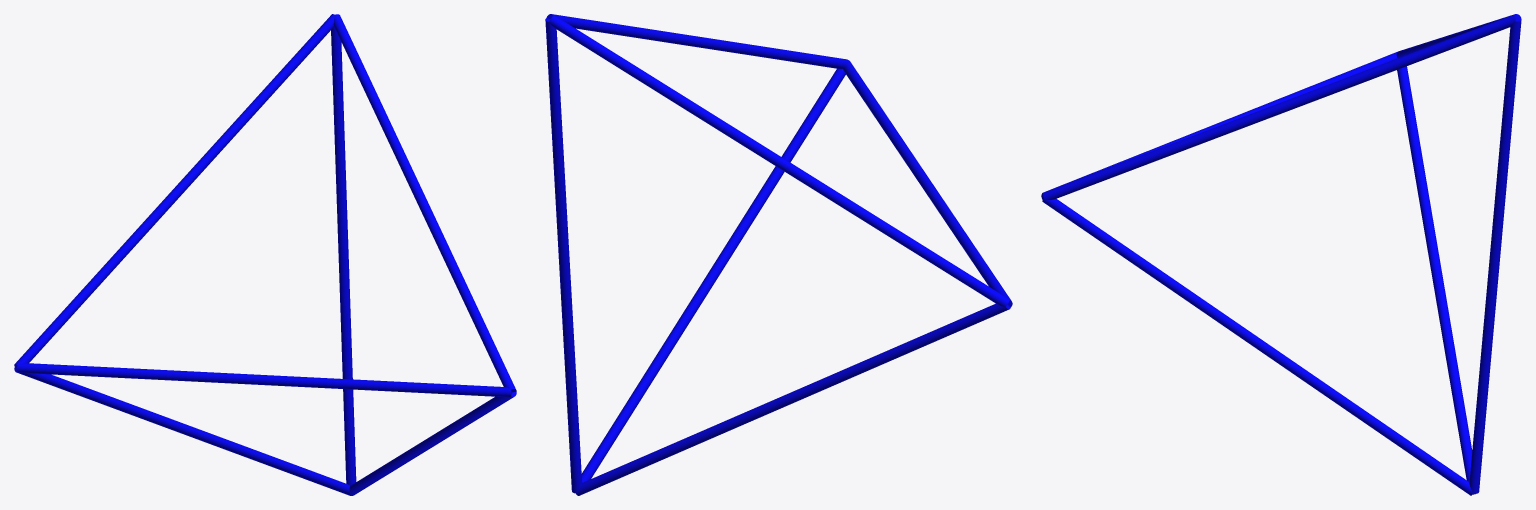
Rendered from tetrahedron.obj.
3 renders of one model, left to right at view 1: azimuth 30°, elevation 25°; view 2: azimuth 150°, elevation 25°; view 3: azimuth 270°, elevation 25°, orthographic. The views are drawn at different scales.
Parts seen in each view (by area): view 1: cyl1, cyl5, cyl0, cyl4, cyl2, cyl3; view 2: cyl5, cyl3, cyl0, cyl2, cyl4, cyl1; view 3: cyl3, cyl4, cyl0, cyl2, cyl1.
Boxes of the visible parts, x1,y1,x2,y2 form: cyl1: (17, 363, 511, 397); cyl5: (14, 14, 334, 366); cyl0: (331, 27, 356, 485); cyl4: (333, 14, 516, 392); cyl2: (14, 366, 350, 495); cyl3: (349, 391, 516, 495); cyl5: (549, 15, 1009, 306); cyl3: (581, 68, 845, 482); cyl0: (545, 18, 582, 493); cyl2: (575, 303, 1010, 495); cyl4: (546, 14, 848, 69); cyl1: (843, 60, 1012, 307); cyl3: (1042, 199, 1473, 495); cyl4: (1043, 14, 1516, 199); cyl0: (1469, 19, 1521, 493); cyl2: (1397, 66, 1475, 494); cyl1: (1041, 52, 1397, 199).
Bounding box in the file's own units: 0.8684 × 1.01 × 0.9138.
